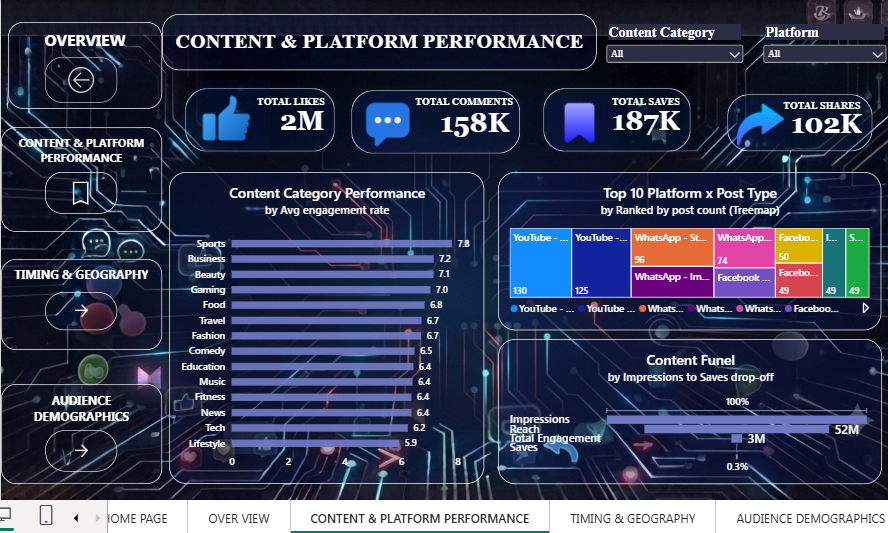

The dashboard page shown, as its layout file describes it:
{"tool":"powerbi","page":{"name":"CONTENT & PLATFORM PERFORMANCE","canvas":[1280,720],"ordinal":2},"visuals":[{"type":"cardVisual","title":"TOTAL POSTS","fields":{"Data":["Final Dataset.Total Likes"]},"box":[253.4,115.2,239,115.2],"z":0},{"type":"cardVisual","title":"TOTAL POSTS","fields":{"Data":["Final Dataset.Total Comments"]},"box":[492.5,118.1,267.8,115.2],"z":1000},{"type":"cardVisual","title":"TOTAL POSTS","fields":{"Data":["Final Dataset.Total Saves"]},"box":[769,115.2,236.2,115.2],"z":2000},{"type":"cardVisual","title":"TOTAL POSTS","fields":{"Data":["Final Dataset.Total Shares"]},"box":[1033.9,123.8,233.3,106.6],"z":3000},{"type":"clusteredBarChart","fields":{"Category":["Engagement System Data.Content Category"],"Y":["Final Dataset.Avg_Engagement_Rate"]},"box":[241.9,247.7,453.6,449.3],"z":4000},{"type":"treemap","fields":{"Group":["Engagement System Data.Platform x Post Type"],"Values":["CountNonNull(Engagement System Data.Post ID)"]},"box":[715.7,247.7,551.5,227.5],"z":5000},{"type":"funnel","fields":{"Y":["StageTable_ESD.Funnel Value (ESD)"],"Category":["StageTable_ESD.Stage","StageTable_ESD.Stage Order"]},"box":[715.7,488.2,553,208.8],"z":6000},{"type":"actionButton","box":[280.8,115.2,106.6,106.6],"z":7000},{"type":"actionButton","box":[515.5,136.8,89.3,85],"z":8000},{"type":"actionButton","box":[790.6,136.8,96.5,72],"z":9000},{"type":"actionButton","box":[1055.5,141.1,73.4,72],"z":10000},{"type":"actionButton","box":[231.8,20.2,626.4,80.6],"z":11000},{"type":"actionButton","box":[63.4,82.1,103.7,66.2],"z":12000},{"type":"shape","box":[10.1,31.7,221.8,125.3],"z":13000},{"type":"shape","box":[0,373,231.8,131],"z":14000},{"type":"shape","box":[0,553,231.8,144],"z":15000},{"type":"actionButton","box":[63.4,420.5,103.7,54.7],"z":16000},{"type":"actionButton","box":[63.4,619.2,103.7,60.5],"z":17000},{"type":"shape","box":[0,182.9,231.8,151.2],"z":18000},{"type":"actionButton","box":[63.4,247.7,103.7,60.5],"z":19000},{"type":"slicer","fields":{"Values":["Engagement System Data.Content Category"]},"box":[866.9,34.6,207.4,63.4],"z":20000},{"type":"slicer","fields":{"Values":["Engagement System Data.Platform"]},"box":[1093,34.6,187.2,63.4],"z":21001},{"type":"actionButton","box":[354.2,128.2,126.7,38.9],"z":21002},{"type":"actionButton","box":[584.6,128.2,184.3,38.9],"z":21003},{"type":"actionButton","box":[865.4,128.2,126.7,38.9],"z":21004},{"type":"actionButton","box":[1114.6,133.9,144,38.9],"z":21005}]}

Visuals, with their boxes on the page's 1280x720 design canvas (x1, y1, x2, y2). These are canvas units, not pixel positions in the 888x533 screenshot, which may show the page scaled, cropped or inside an application window:
"TOTAL POSTS" cardVisual: 253/115/492/230
"TOTAL POSTS" cardVisual: 492/118/760/233
"TOTAL POSTS" cardVisual: 769/115/1005/230
"TOTAL POSTS" cardVisual: 1034/124/1267/230
clusteredBarChart - Engagement System Data.Content Category x Final Dataset.Avg_Engagement_Rate: 242/248/696/697
treemap - Engagement System Data.Platform x Post Type x CountNonNull(Engagement System Data.Post ID): 716/248/1267/475
funnel - StageTable_ESD.Funnel Value (ESD) x StageTable_ESD.Stage: 716/488/1269/697
actionButton: 281/115/387/222
actionButton: 516/137/605/222
actionButton: 791/137/887/209
actionButton: 1056/141/1129/213
actionButton: 232/20/858/101
actionButton: 63/82/167/148
shape: 10/32/232/157
shape: 0/373/232/504
shape: 0/553/232/697
actionButton: 63/420/167/475
actionButton: 63/619/167/680
shape: 0/183/232/334
actionButton: 63/248/167/308
slicer - Engagement System Data.Content Category: 867/35/1074/98
slicer - Engagement System Data.Platform: 1093/35/1280/98
actionButton: 354/128/481/167
actionButton: 585/128/769/167
actionButton: 865/128/992/167
actionButton: 1115/134/1259/173
